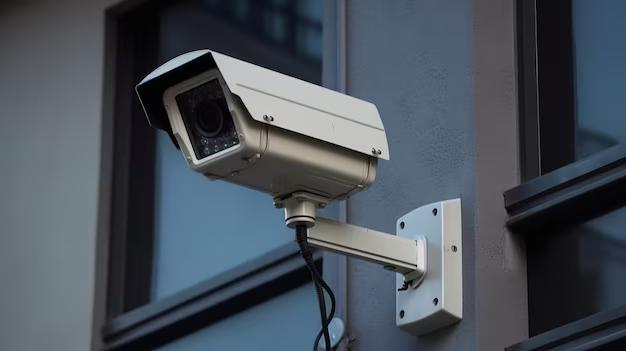------------------------------: (125, 47, 400, 210)
